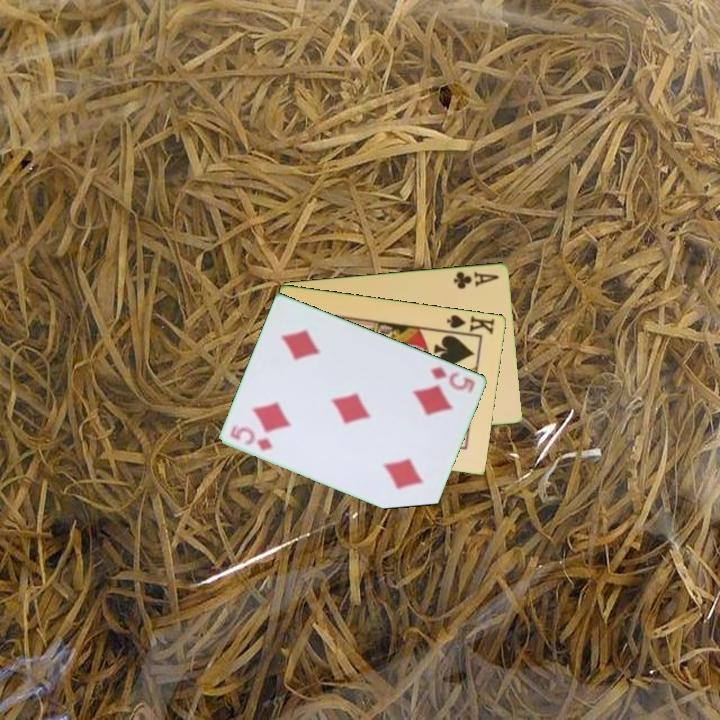5d: (427, 362, 478, 396), (227, 421, 276, 454)
Ac: (450, 267, 502, 291)
Ks: (442, 311, 498, 338)
